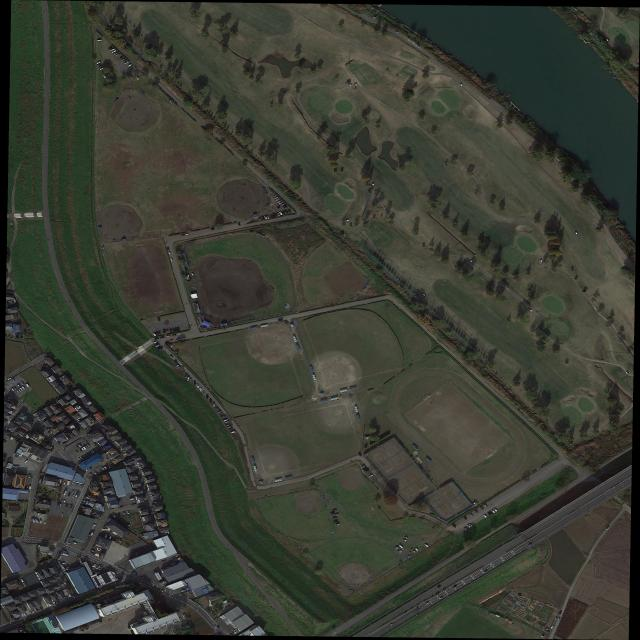large-vehicle: (153, 570, 163, 581), (63, 490, 68, 496), (398, 544, 404, 549), (62, 553, 68, 557), (35, 518, 39, 524), (82, 446, 87, 450), (73, 541, 78, 545), (458, 83, 463, 87), (66, 481, 70, 486), (32, 519, 36, 524), (529, 308, 533, 312), (557, 617, 560, 621), (348, 84, 352, 87), (575, 231, 578, 235), (625, 371, 629, 374), (345, 219, 349, 222), (422, 293, 426, 296), (39, 520, 42, 524), (371, 183, 375, 186), (540, 260, 543, 263), (354, 84, 358, 86), (64, 482, 66, 486)
small-vehicle: (451, 522, 457, 528), (127, 62, 134, 67), (102, 74, 108, 79), (115, 52, 121, 57), (424, 543, 430, 548), (414, 547, 420, 552), (363, 467, 370, 471), (101, 466, 106, 471), (20, 381, 25, 386), (135, 76, 140, 81), (121, 57, 126, 62), (162, 329, 167, 334), (119, 55, 124, 60), (474, 509, 479, 514), (22, 582, 27, 587), (89, 473, 94, 478), (230, 430, 236, 434), (99, 67, 105, 71), (96, 60, 102, 64), (123, 61, 129, 65), (181, 589, 187, 593), (368, 474, 374, 478), (335, 523, 341, 527), (605, 38, 610, 42), (221, 415, 226, 419), (209, 398, 213, 403), (273, 194, 278, 198), (185, 374, 189, 379), (170, 355, 174, 360), (24, 460, 29, 464), (19, 387, 24, 391), (21, 386, 26, 390), (97, 63, 102, 67), (99, 64, 104, 68), (152, 333, 157, 337), (155, 331, 159, 336), (169, 328, 173, 333), (181, 233, 186, 237), (112, 50, 117, 54), (93, 471, 98, 475), (464, 516, 468, 521), (463, 527, 468, 531), (493, 508, 498, 512), (487, 512, 492, 516), (483, 514, 488, 518), (469, 523, 474, 527), (466, 524, 471, 528), (550, 625, 554, 630), (425, 601, 430, 605), (274, 196, 279, 200), (277, 199, 282, 203), (113, 514, 117, 519), (122, 452, 127, 456), (77, 419, 82, 423), (573, 7, 578, 11), (605, 527, 610, 531), (275, 198, 280, 202), (279, 201, 284, 205), (20, 579, 25, 583), (284, 206, 289, 210), (284, 210, 289, 214), (279, 211, 283, 216), (272, 213, 276, 218), (361, 465, 366, 469), (402, 538, 407, 542), (97, 39, 103, 42), (210, 228, 216, 231), (108, 47, 114, 50), (364, 469, 370, 472), (332, 509, 338, 512), (332, 516, 338, 519), (333, 520, 339, 523), (196, 384, 200, 388), (199, 388, 203, 392), (174, 360, 178, 364), (159, 347, 163, 351), (156, 344, 160, 348), (12, 378, 16, 382), (104, 466, 108, 470), (90, 451, 94, 455), (80, 456, 84, 460), (78, 457, 82, 461), (87, 444, 91, 448), (85, 445, 89, 449), (78, 444, 82, 448), (76, 445, 80, 449), (18, 389, 22, 393), (26, 384, 30, 388), (17, 384, 21, 388), (13, 386, 17, 390), (165, 329, 169, 333), (172, 328, 176, 332), (469, 259, 473, 263), (480, 506, 484, 510), (484, 504, 488, 508), (489, 510, 493, 514), (90, 532, 94, 536), (72, 494, 76, 498), (74, 490, 78, 494), (48, 603, 52, 607), (277, 213, 281, 217), (266, 215, 270, 219), (264, 216, 268, 220), (261, 216, 265, 220), (227, 426, 232, 429), (226, 424, 231, 427), (224, 421, 229, 424), (223, 419, 228, 422), (217, 411, 222, 414), (176, 366, 181, 369), (153, 341, 158, 344), (154, 337, 159, 340), (160, 336, 165, 339), (175, 327, 178, 332), (177, 326, 180, 331), (185, 233, 190, 236), (114, 52, 119, 55), (469, 514, 474, 517), (491, 510, 496, 513), (372, 16, 377, 19), (91, 550, 96, 553), (57, 502, 60, 507), (42, 417, 47, 420), (132, 572, 137, 575), (77, 490, 80, 495), (72, 489, 75, 494), (68, 491, 71, 496), (281, 203, 286, 206), (330, 512, 335, 515), (389, 623, 394, 626), (216, 408, 219, 412), (213, 403, 216, 407), (206, 394, 209, 398), (203, 391, 206, 395), (189, 378, 192, 382), (187, 377, 190, 381), (176, 364, 180, 367), (158, 346, 162, 349), (8, 377, 12, 380), (11, 388, 15, 391), (85, 469, 89, 472), (16, 456, 20, 459), (16, 390, 20, 393), (172, 334, 176, 337), (158, 331, 161, 335), (191, 272, 194, 276), (170, 258, 173, 262), (168, 251, 171, 255), (167, 246, 170, 250), (76, 483, 79, 487), (71, 482, 74, 486), (413, 550, 416, 554), (554, 617, 557, 621), (28, 474, 31, 478), (187, 274, 190, 278), (610, 421, 614, 424), (32, 609, 35, 613), (225, 602, 229, 605), (109, 536, 112, 540), (105, 534, 108, 538), (93, 524, 97, 527), (61, 499, 64, 503), (23, 613, 27, 616), (275, 213, 278, 217), (270, 214, 273, 218), (404, 536, 408, 539), (169, 340, 174, 342), (180, 338, 185, 340), (166, 335, 171, 337), (110, 49, 115, 51), (82, 500, 87, 502), (176, 607, 181, 609), (334, 514, 339, 516), (92, 450, 95, 453), (81, 448, 84, 451), (80, 449, 83, 452), (76, 451, 79, 454), (26, 486, 29, 489), (123, 512, 126, 515), (127, 511, 130, 514), (75, 495, 78, 498), (194, 381, 196, 385), (176, 339, 180, 341), (178, 333, 182, 335), (66, 504, 68, 508), (60, 503, 62, 507), (169, 345, 173, 347), (44, 521, 46, 525), (62, 513, 64, 517), (64, 499, 66, 503)
